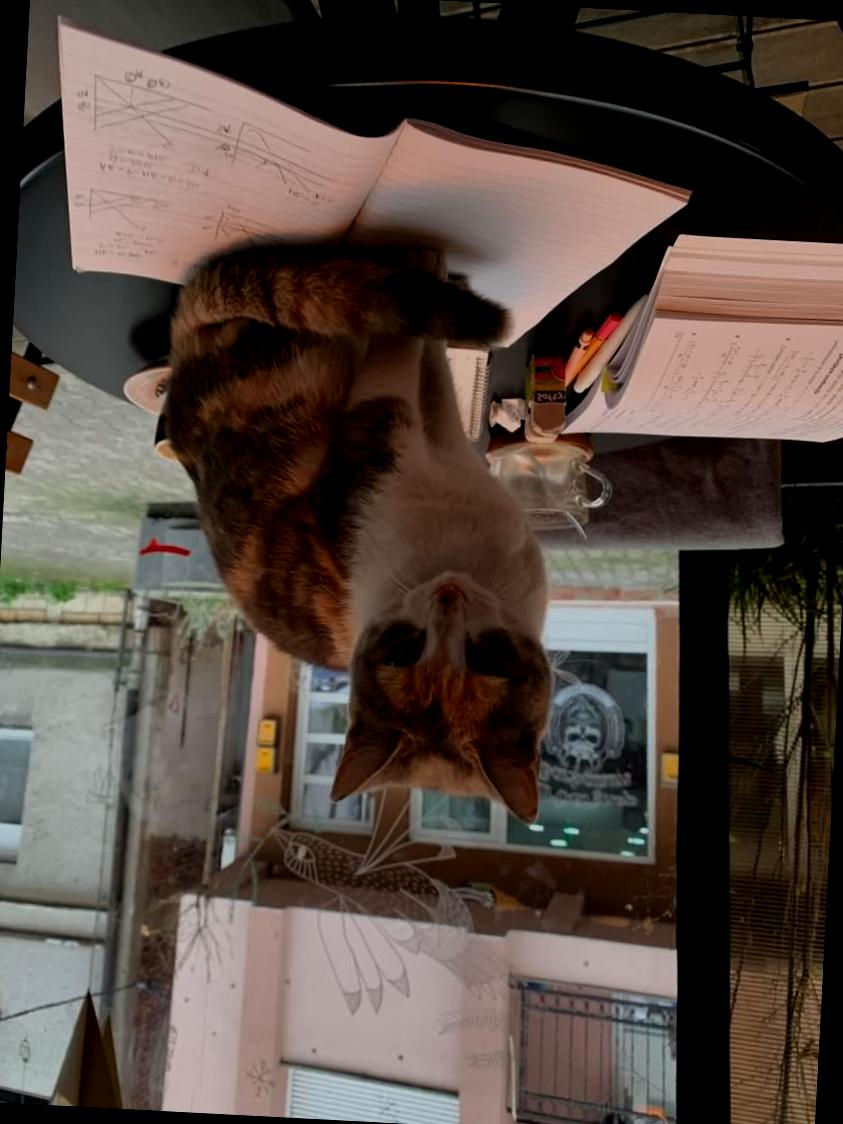macka: (144, 232, 578, 829)
